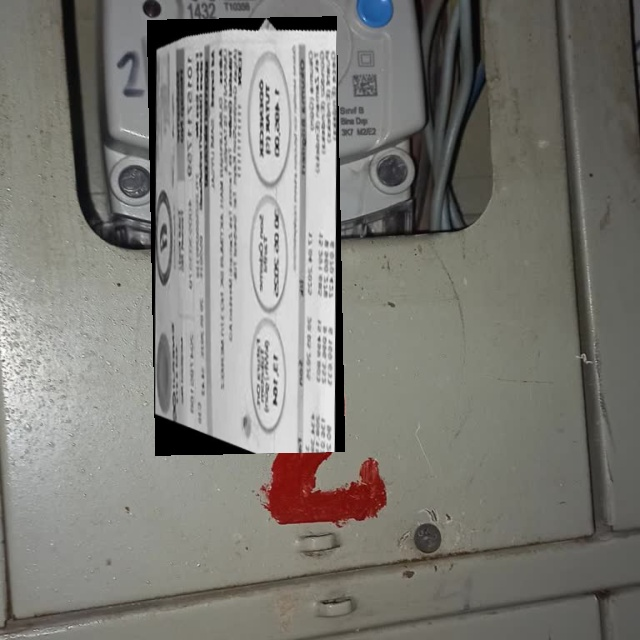electricity-bill: (147, 16, 345, 456)
